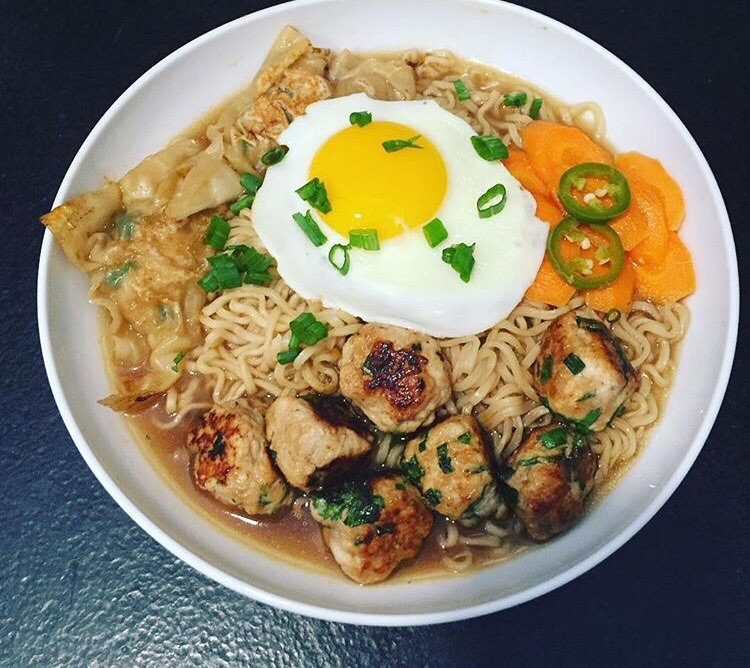fried egg: (279, 91, 521, 344)
plain spaghetti: (170, 255, 343, 403)
